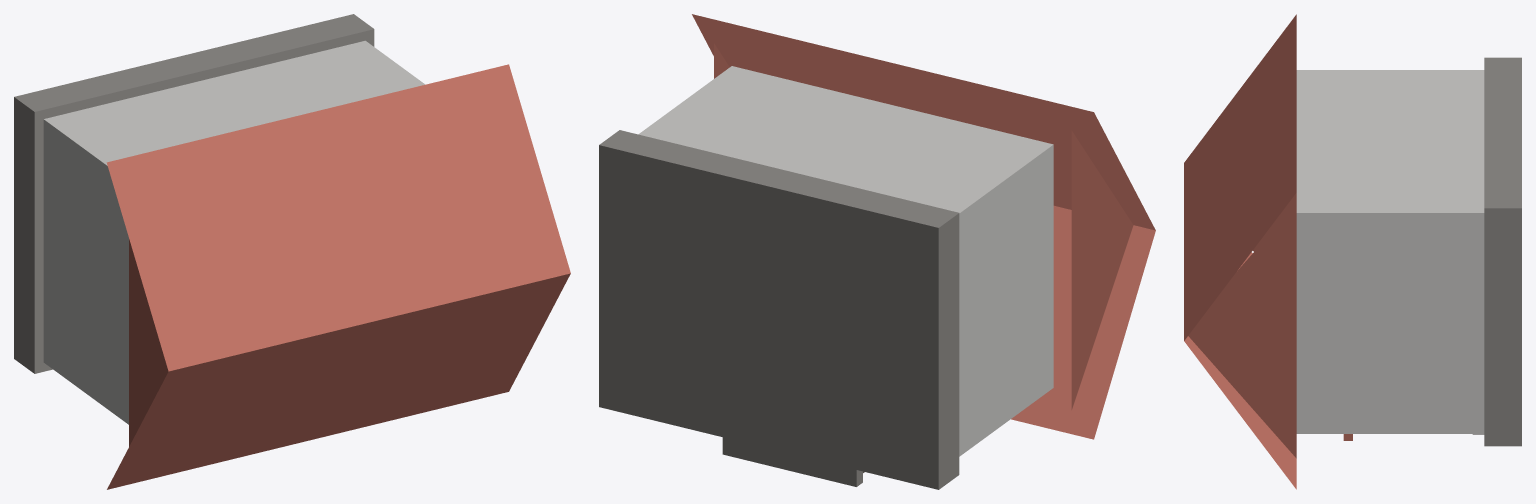
The model's file is house_himalayan_terracotta.glb.
The picture shows the model from 3 angles, left to right: view 1: azimuth 30°, elevation 25°; view 2: azimuth 150°, elevation 25°; view 3: azimuth 270°, elevation 25°; orthographic projection. The views are drawn at different scales.
Size of the model in its own units: 9 by 7.2 by 7.2.
